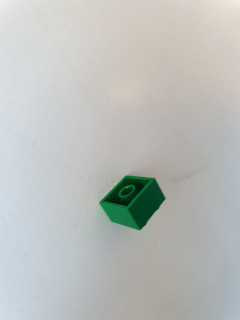2x2 green: (97, 173, 168, 234)
